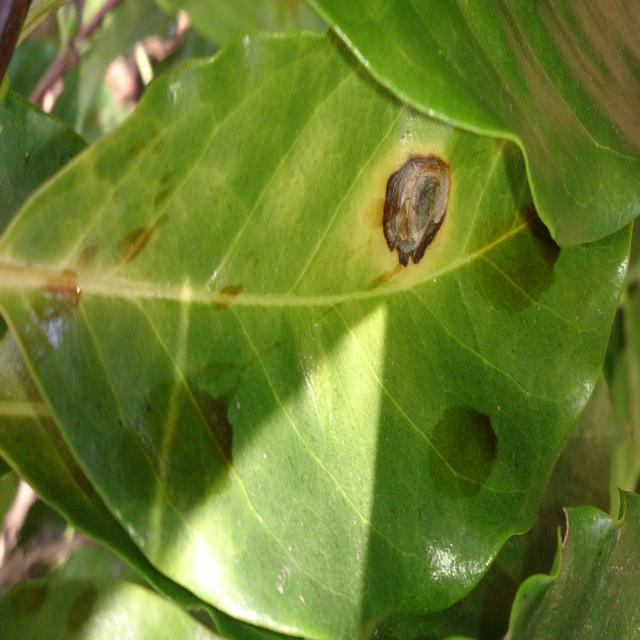Enfermedad-Mancha-de-hierro: (0, 0, 640, 634)
